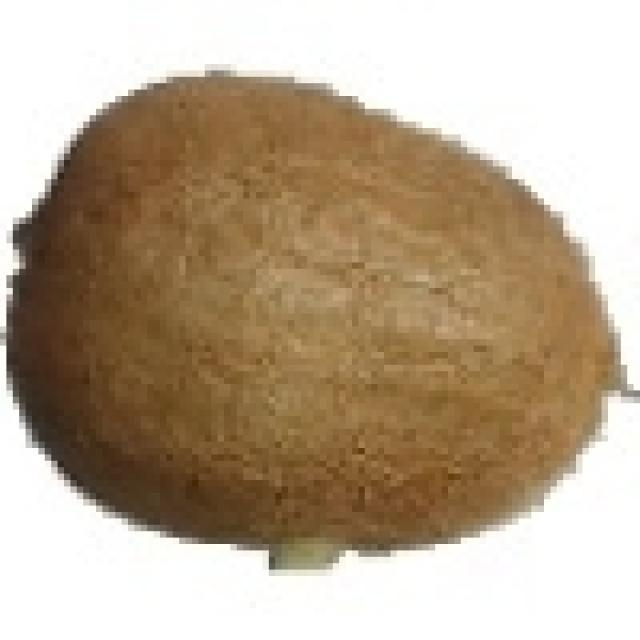kiwi: (19, 64, 627, 550)
